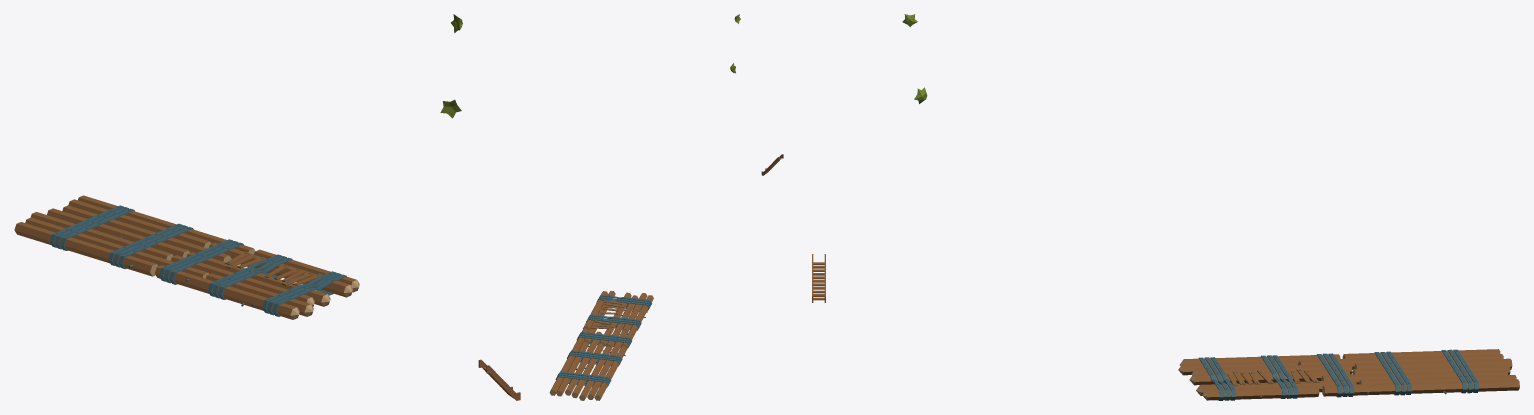
3 renders of one model, left to right at view 1: azimuth 30°, elevation 25°; view 2: azimuth 150°, elevation 25°; view 3: azimuth 270°, elevation 25°, orthographic. The views are drawn at different scales.
Parts seen in each view (by area): view 1: Cylinder1323_brown_0, Cylinder1330_brown_0, Cylinder1327_brown_0, Cylinder1324_brown_0, Cylinder1325_brown_0, Cylinder1322_brown_0, Box161_brown_0, Cylinder1326_brown_0, Cylinder1328_brown_0, Cylinder1329_brown_0, Cylinder1332_brown_0, Cylinder1331_brown_0; view 2: Cylinder1323_brown_0, Cylinder1330_brown_0, Cylinder1327_brown_0, Box161_brown_0, Cylinder1322_brown_0, Cylinder1324_brown_0, Cylinder1326_brown_0, Cylinder1325_brown_0, Cylinder1329_brown_0, Cylinder1328_brown_0; view 3: Cylinder1322_brown_0, Cylinder1323_brown_0, Cylinder1330_brown_0, Cylinder1331_brown_0, Cylinder1327_brown_0, Cylinder1324_brown_0, Cylinder1328_brown_0, Cylinder1326_brown_0, Cylinder1325_brown_0, Cylinder1329_brown_0, Box161_brown_0.
Boxes of the visible parts, x1=… form: Cylinder1323_brown_0: x1=14, y1=199, x2=209, y2=276; Cylinder1330_brown_0: x1=155, y1=242, x2=349, y2=319; Cylinder1327_brown_0: x1=25, y1=217, x2=207, y2=277; Cylinder1324_brown_0: x1=62, y1=205, x2=228, y2=261; Cylinder1325_brown_0: x1=47, y1=208, x2=188, y2=256; Cylinder1322_brown_0: x1=78, y1=195, x2=253, y2=252; Box161_brown_0: x1=225, y1=252, x2=322, y2=285; Cylinder1326_brown_0: x1=30, y1=212, x2=171, y2=259; Cylinder1328_brown_0: x1=186, y1=252, x2=327, y2=306; Cylinder1329_brown_0: x1=170, y1=255, x2=311, y2=302; Cylinder1332_brown_0: x1=205, y1=273, x2=310, y2=316; Cylinder1331_brown_0: x1=254, y1=249, x2=356, y2=292; Cylinder1323_brown_0: x1=557, y1=341, x2=627, y2=397; Cylinder1330_brown_0: x1=584, y1=291, x2=653, y2=346; Cylinder1327_brown_0: x1=588, y1=330, x2=627, y2=397; Box161_brown_0: x1=591, y1=300, x2=624, y2=329; Cylinder1322_brown_0: x1=550, y1=328, x2=588, y2=392; Cylinder1324_brown_0: x1=565, y1=331, x2=601, y2=392; Cylinder1326_brown_0: x1=579, y1=346, x2=611, y2=397; Cylinder1325_brown_0: x1=572, y1=343, x2=604, y2=395; Cylinder1329_brown_0: x1=606, y1=295, x2=638, y2=347; Cylinder1328_brown_0: x1=599, y1=292, x2=631, y2=344; Cylinder1322_brown_0: x1=1323, y1=379, x2=1519, y2=396; Cylinder1323_brown_0: x1=1344, y1=349, x2=1516, y2=383; Cylinder1330_brown_0: x1=1184, y1=354, x2=1356, y2=395; Cylinder1331_brown_0: x1=1206, y1=386, x2=1319, y2=400; Cylinder1327_brown_0: x1=1299, y1=354, x2=1503, y2=369; Cylinder1324_brown_0: x1=1322, y1=369, x2=1508, y2=384; Cylinder1328_brown_0: x1=1193, y1=369, x2=1350, y2=385; Cylinder1326_brown_0: x1=1356, y1=358, x2=1512, y2=369; Cylinder1325_brown_0: x1=1353, y1=364, x2=1510, y2=374; Cylinder1329_brown_0: x1=1196, y1=364, x2=1352, y2=374; Box161_brown_0: x1=1227, y1=369, x2=1319, y2=386.
Size of the model in its own units: 1005 by 2531 by 4267.
